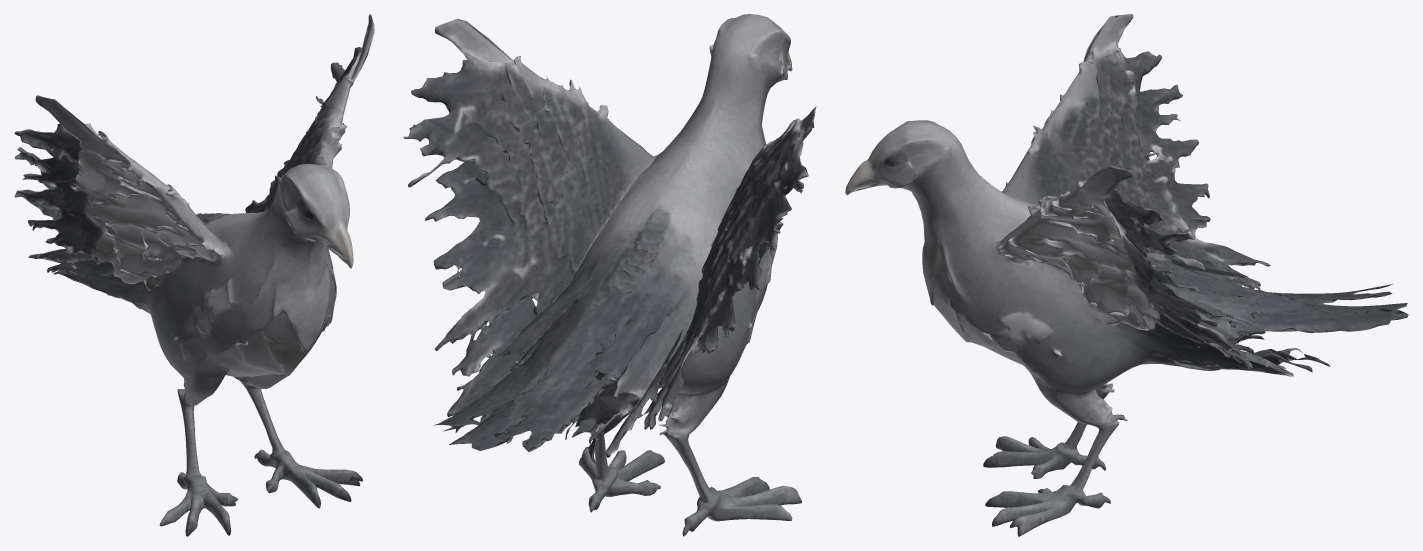
File: token_ash.glb
3 views of the same model, side by side, from view 1: azimuth 30°, elevation 25°; view 2: azimuth 150°, elevation 25°; view 3: azimuth 270°, elevation 25° (orthographic). The views are drawn at different scales.
Bounding box in the file's own units: 0.6612 × 0.7558 × 0.9635.
Materials: 1 (1 with a texture image).
